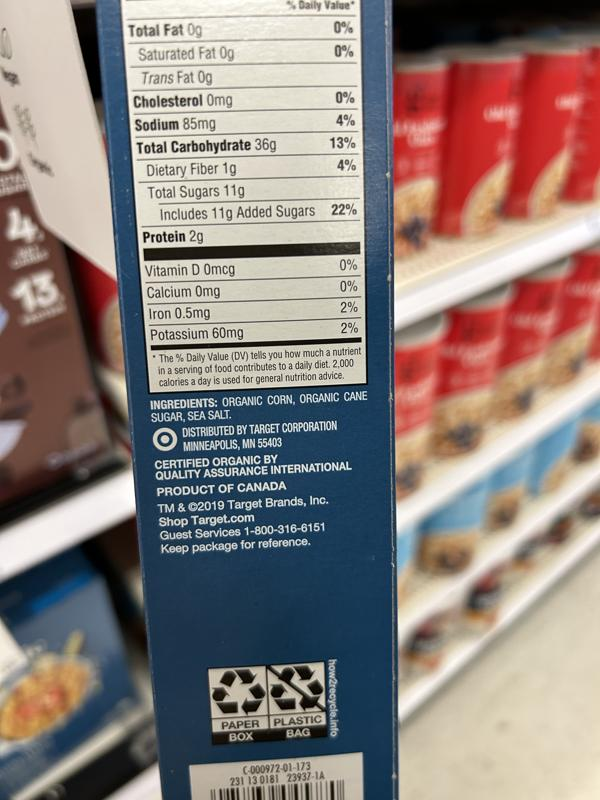ingredients: (147, 388, 372, 427)
